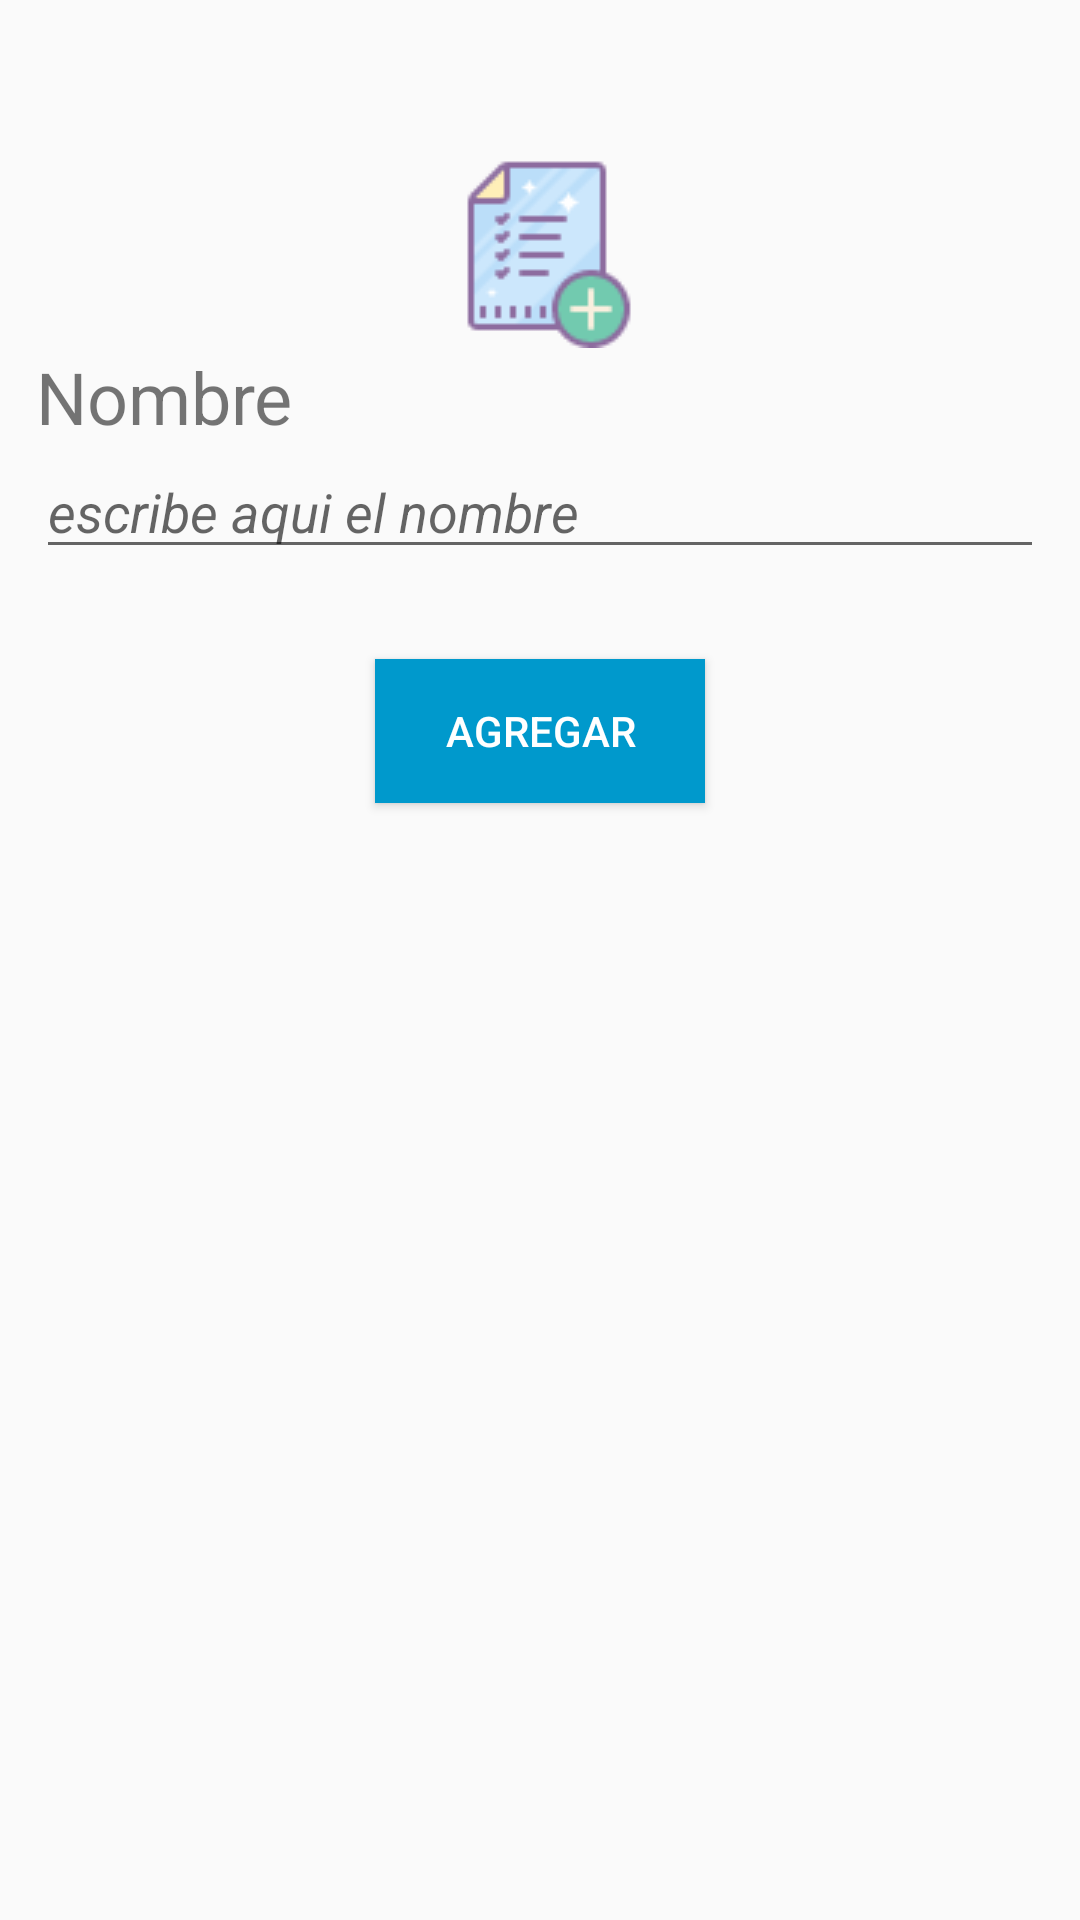

Screen size 1080×1920. Icon name, then its center in pixels as (x,y):
addlista: (549,254)
